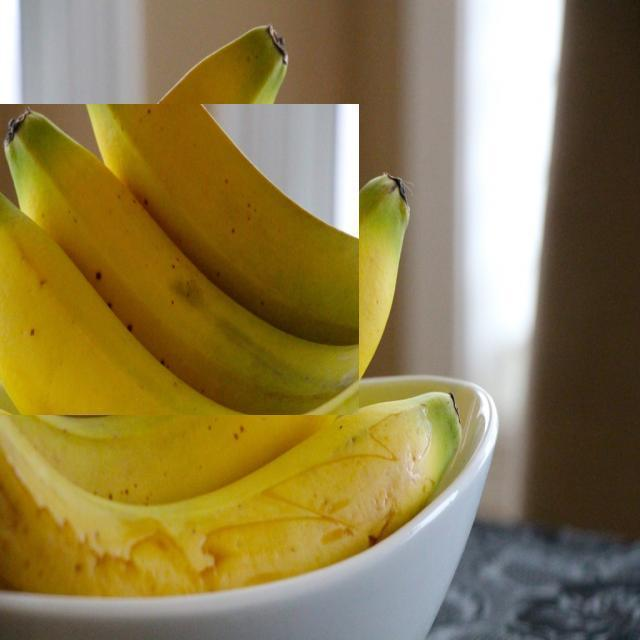Banana: (0, 105, 358, 417), (0, 419, 464, 599), (152, 25, 288, 104), (362, 173, 404, 378)
